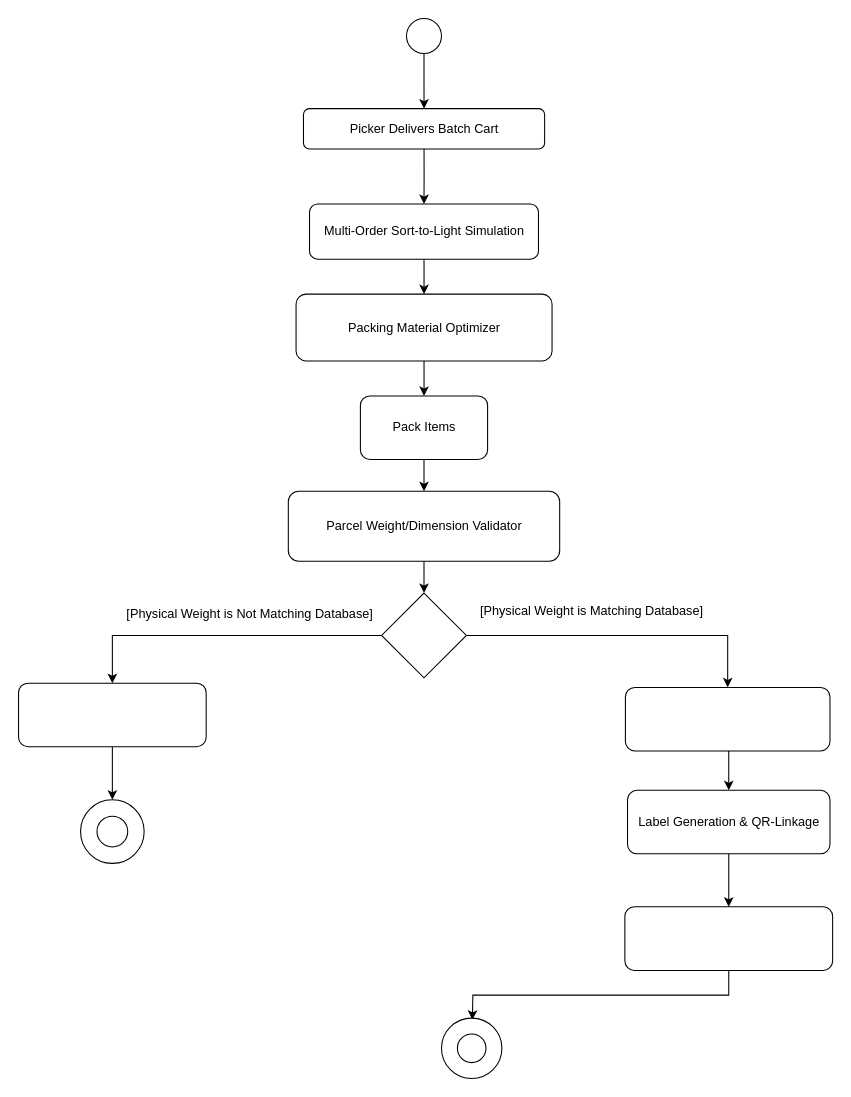
This 851x1097 diagram has some shape labels left out. Each missing label, with the centre of its shape:
Dispatch to Outbound Truck: [728,938]
Flag for Manual Review / Audit: [111,714]
Shipping Carrier Integration: [727,718]
